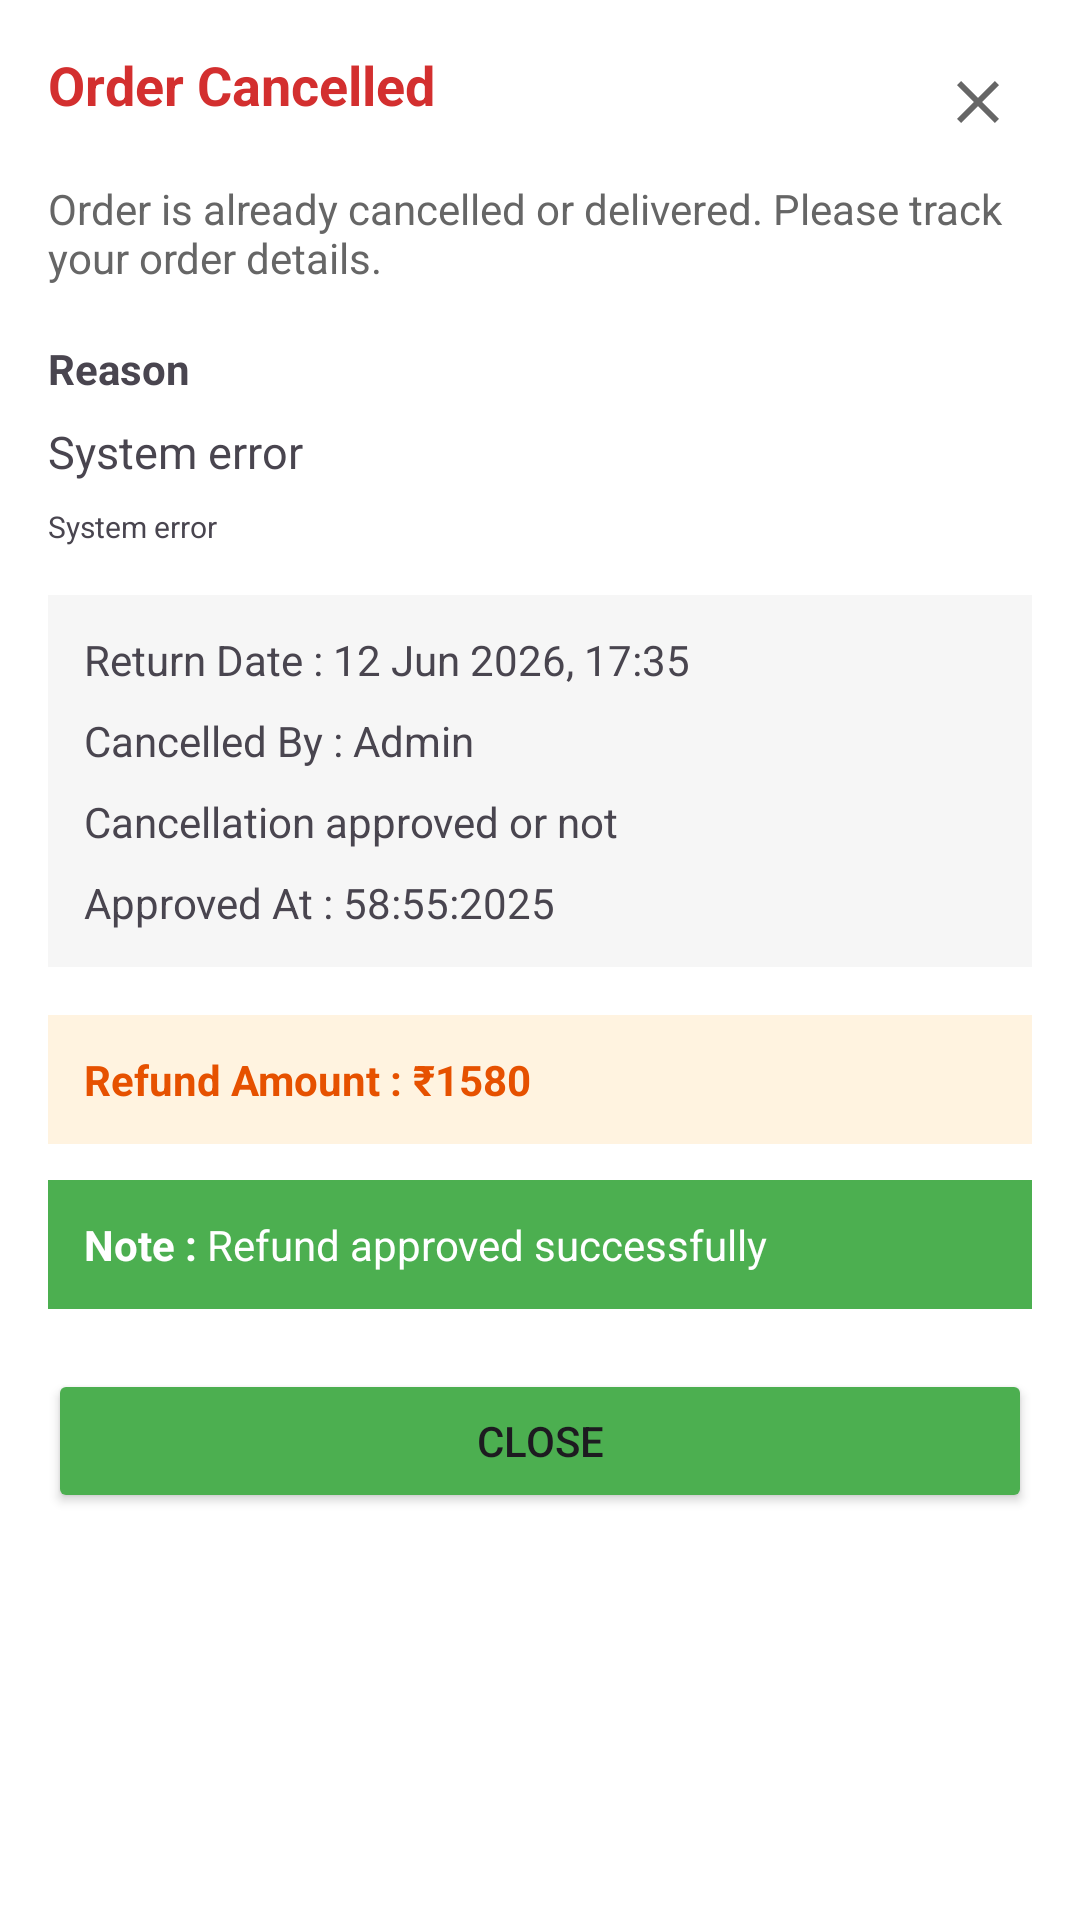

Named icons in this screenshot (1080*1920) and their centers, point (x, y):
close: point (978, 102)
